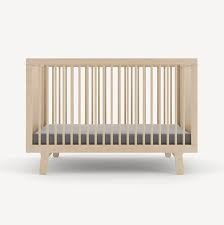crib: (26, 59, 196, 173)
